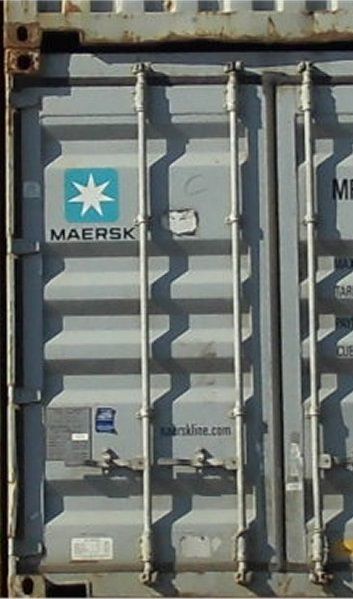container_door: (5, 46, 351, 594)
